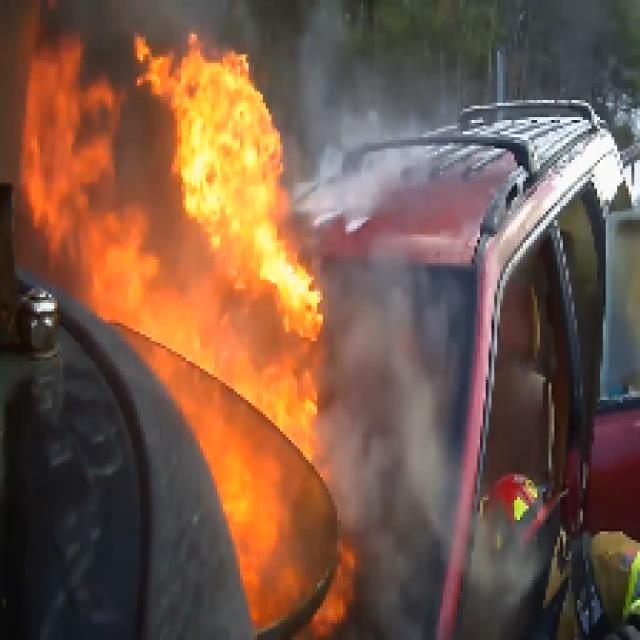Fire: (20, 31, 417, 640)
Smoke: (46, 6, 477, 223)
